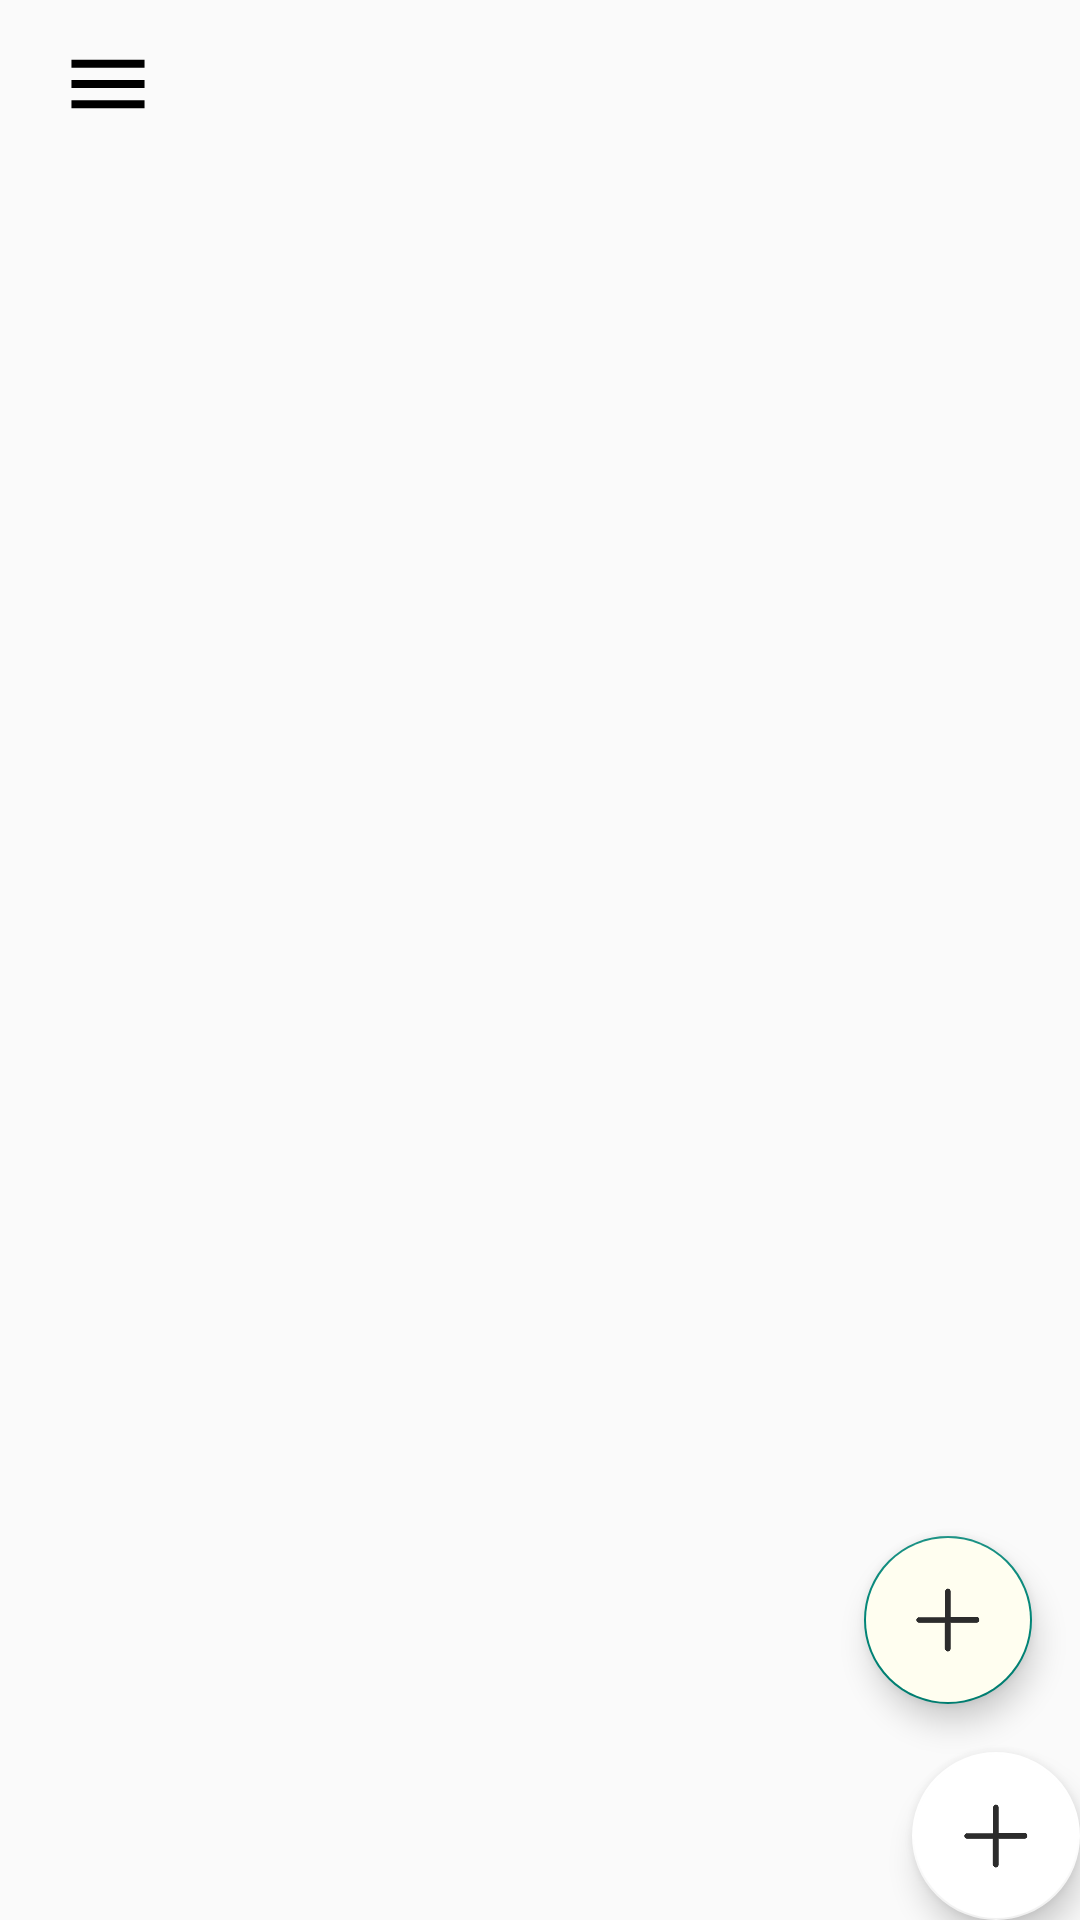

Where icons sit on this 1080px x 1920px app screen, as (x1, y1, x2, y2):
add: (864, 1536, 1032, 1704), (918, 1804, 1080, 1920)
menu: (71, 59, 145, 109)
